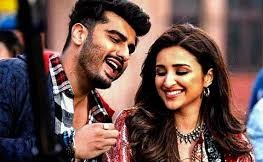Bad: (1, 1, 255, 162)
